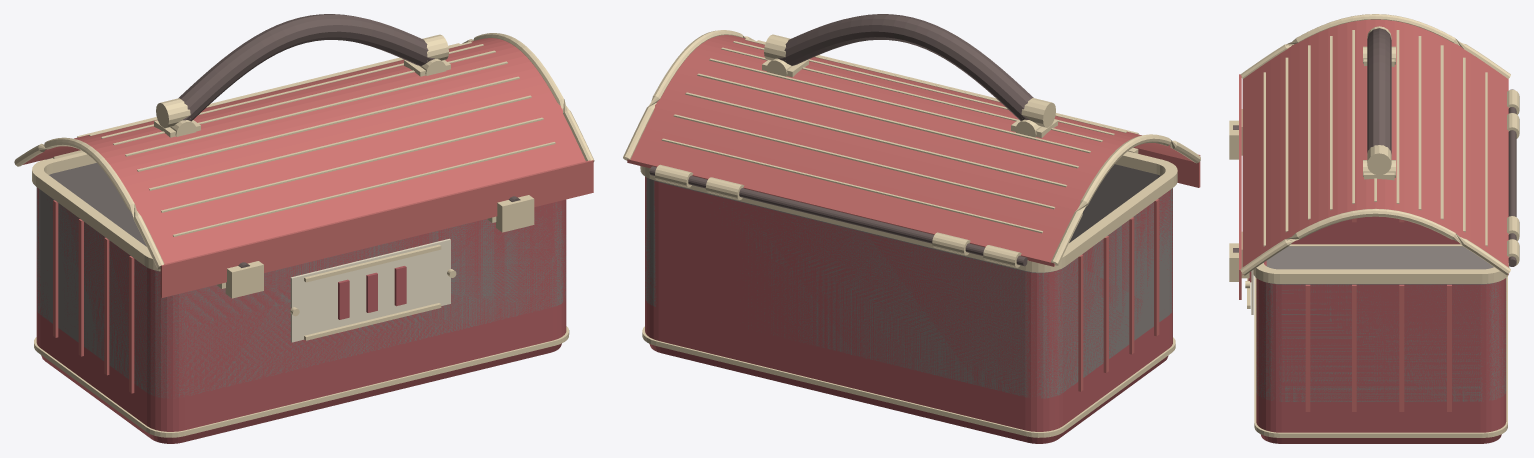
Rendered from lunchbox_oxblood.glb.
The picture shows the model from 3 angles, left to right: view 1: azimuth 30°, elevation 25°; view 2: azimuth 150°, elevation 25°; view 3: azimuth 270°, elevation 25°; orthographic projection. The views are drawn at different scales.
Visible parts, largest first — view 1: pressed_lower_basin, curved_domical_lid, hollow_interior_walls, front_lid_apron, front_label_backplate, arched_bakelite_handle, lower_edge_bead, rolled_top_lip, lid_edge_welt_-0.189, lid_edge_welt_0.189, pressed_roof_rib_08, pressed_roof_rib_09 (+16 smaller); view 2: pressed_lower_basin, curved_domical_lid, hollow_interior_walls, arched_bakelite_handle, rolled_top_lip, lower_edge_bead, hinge_steel_pin, lid_edge_welt_-0.189, lid_edge_welt_0.189, pressed_roof_rib_03, pressed_roof_rib_04, pressed_roof_rib_02 (+16 smaller); view 3: curved_domical_lid, pressed_lower_basin, hollow_interior_walls, bottom_floor, rolled_top_lip, arched_bakelite_handle, lower_edge_bead, lid_edge_welt_0.189, lid_edge_welt_-0.189, hinge_steel_pin, wall_rib_1_-0.017, wall_rib_1_0.060 (+16 smaller).
Boxes of the visible parts, <box> form: pressed_lower_basin: <box>36,187,566,443</box>; curved_domical_lid: <box>23,38,585,263</box>; hollow_interior_walls: <box>36,163,566,398</box>; front_lid_apron: <box>160,160,593,297</box>; front_label_backplate: <box>290,238,450,342</box>; arched_bakelite_handle: <box>178,14,434,121</box>; lower_edge_bead: <box>34,326,569,437</box>; rolled_top_lip: <box>32,152,160,271</box>; lid_edge_welt_-0.189: <box>14,137,164,269</box>; lid_edge_welt_0.189: <box>462,33,594,161</box>; pressed_roof_rib_08: <box>137,76,519,171</box>; pressed_roof_rib_09: <box>149,95,531,190</box>; pressed_lower_basin: <box>645,177,1172,443</box>; curved_domical_lid: <box>627,35,1192,266</box>; hollow_interior_walls: <box>645,164,1172,398</box>; arched_bakelite_handle: <box>778,14,1033,120</box>; rolled_top_lip: <box>640,151,1177,272</box>; lower_edge_bead: <box>642,326,1175,437</box>; hinge_steel_pin: <box>649,166,1027,266</box>; lid_edge_welt_-0.189: <box>1051,134,1200,265</box>; lid_edge_welt_0.189: <box>623,30,755,160</box>; pressed_roof_rib_03: <box>685,92,1066,187</box>; pressed_roof_rib_04: <box>697,73,1078,168</box>; pressed_roof_rib_02: <box>673,114,1054,209</box>; curved_domical_lid: <box>1242,19,1508,274</box>; pressed_lower_basin: <box>1256,216,1506,443</box>; hollow_interior_walls: <box>1256,278,1506,401</box>; bottom_floor: <box>1266,246,1493,269</box>; rolled_top_lip: <box>1253,263,1509,283</box>; arched_bakelite_handle: <box>1367,28,1391,153</box>; lower_edge_bead: <box>1254,244,1507,437</box>; lid_edge_welt_0.189: <box>1240,208,1510,275</box>; lid_edge_welt_-0.189: <box>1240,14,1510,78</box>; hinge_steel_pin: <box>1508,89,1516,266</box>; wall_rib_1_-0.017: <box>1399,284,1404,411</box>; wall_rib_1_0.060: <box>1305,284,1310,411</box>.
Size of the model in its own units: 0.3846 by 0.2835 by 0.238.
